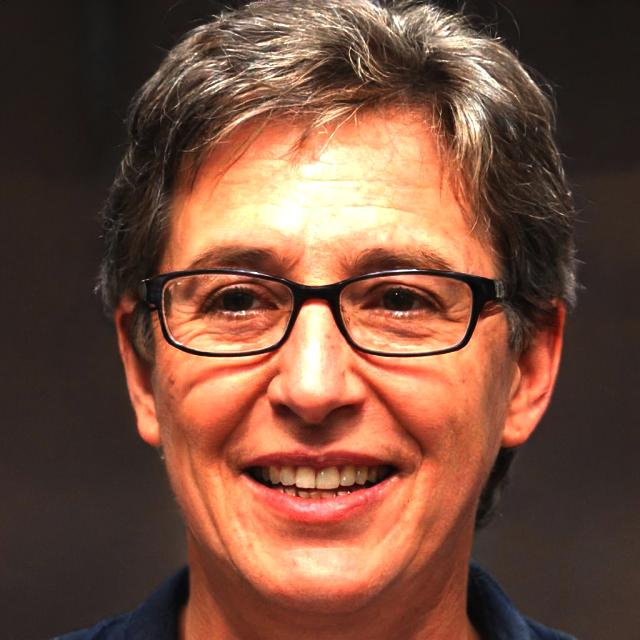lens: (339, 274, 471, 353), (164, 275, 294, 352)
